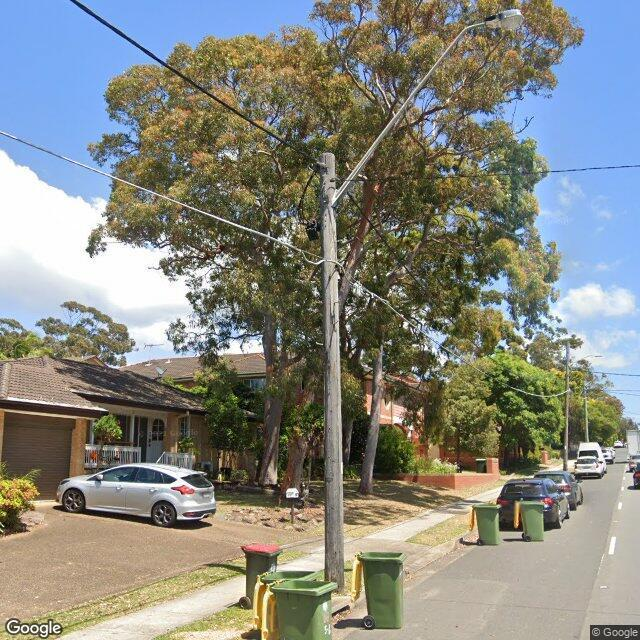streetlight: (331, 9, 526, 209), (569, 354, 605, 367)
timber-pole: (319, 152, 343, 592), (563, 341, 570, 469), (582, 380, 590, 442)
